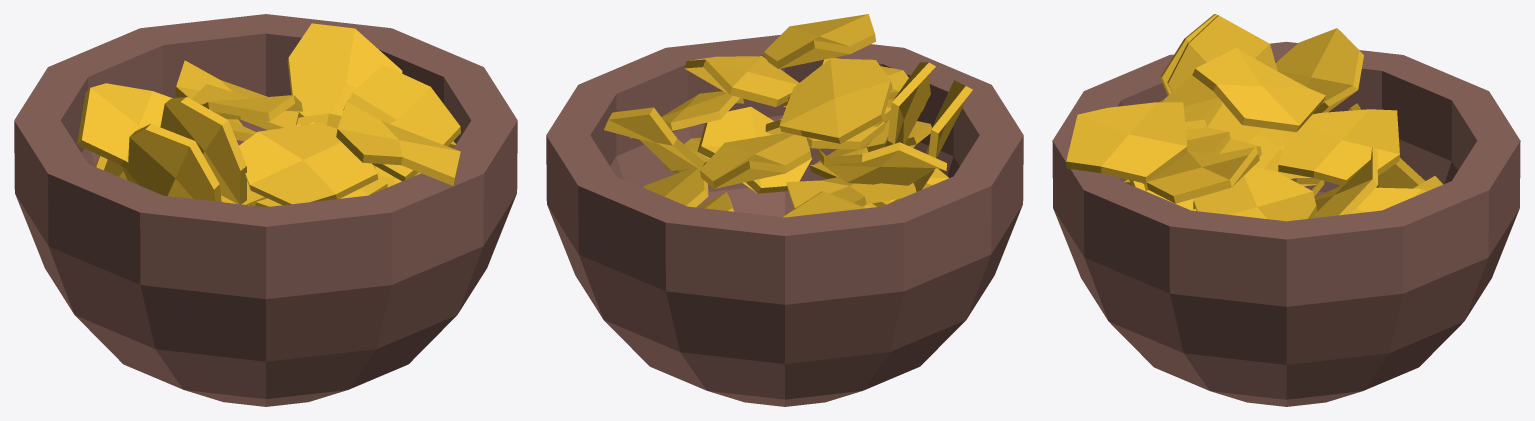
File: chips.fbx
The picture shows the model from 3 angles, left to right: view 1: azimuth 30°, elevation 25°; view 2: azimuth 150°, elevation 25°; view 3: azimuth 270°, elevation 25°; orthographic projection. The views are drawn at different scales.
Visible parts, largest first — view 1: Sphere; view 2: Sphere; view 3: Sphere.
Boxes of the visible parts, bbox=[...] form: Sphere: bbox=[14, 14, 517, 406]; Sphere: bbox=[546, 14, 1023, 406]; Sphere: bbox=[1052, 14, 1520, 406].
Size of the model in its own units: 0.212 by 0.1536 by 0.212.
Materials: 1 (1 with a texture image).
